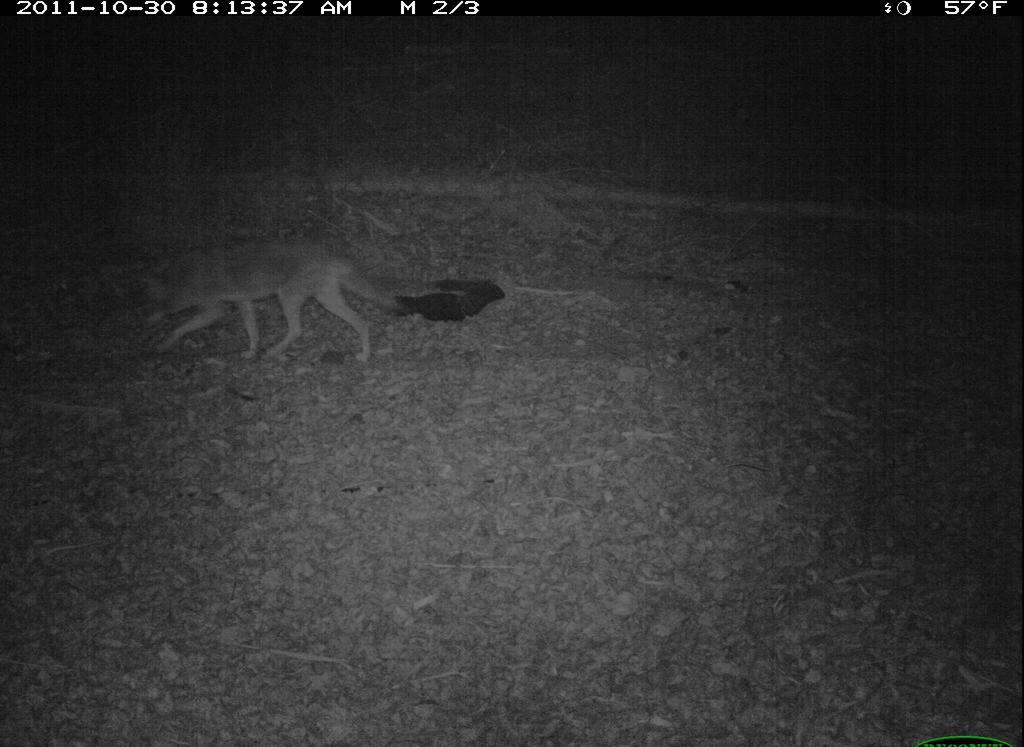coyote: (115, 233, 412, 374)
